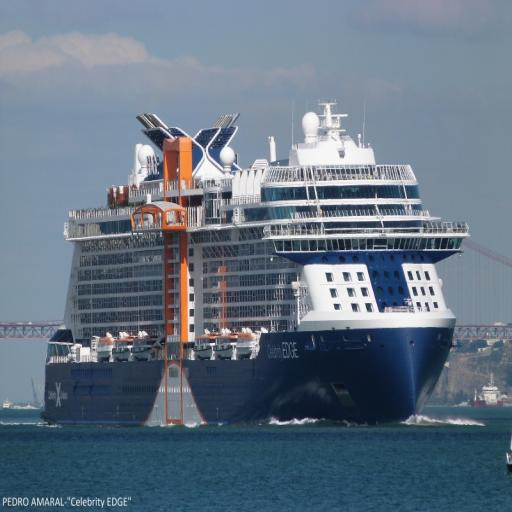cruises: (38, 85, 473, 435)
